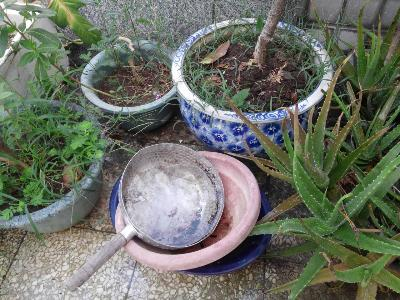bowl: (114, 148, 263, 273), (118, 142, 226, 249)
